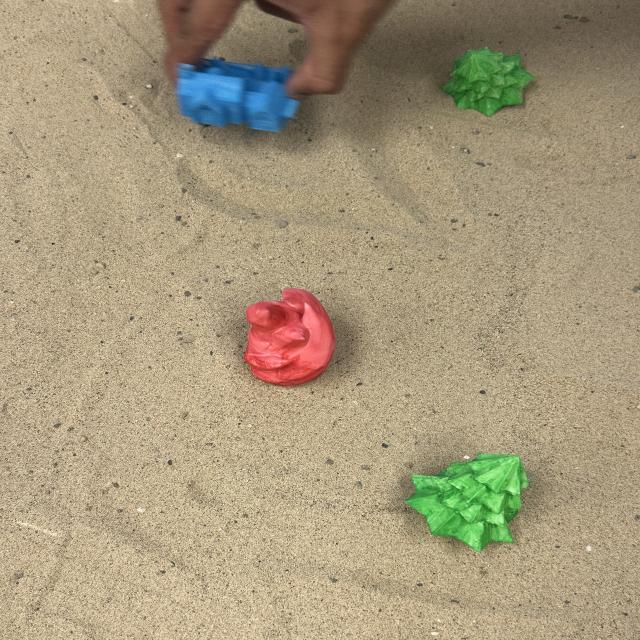fire: (241, 286, 336, 386)
house: (173, 56, 301, 133)
tree: (404, 451, 530, 552), (441, 46, 535, 117)
